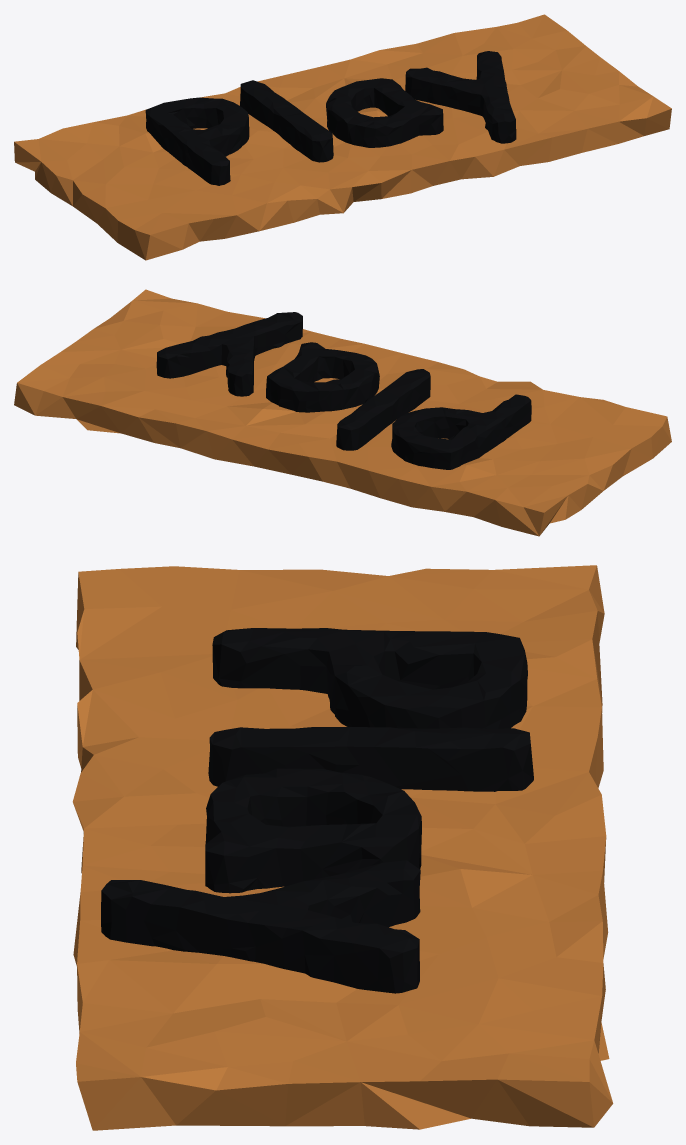
Rendered from play.fbx.
3 renders of one model, top to bottom at view 1: azimuth 30°, elevation 25°; view 2: azimuth 150°, elevation 25°; view 3: azimuth 270°, elevation 25°, orthographic. The views are drawn at different scales.
Parts seen in each view (by area): view 1: Куб.002; view 2: Куб.002; view 3: Куб.002.
Part boxes in pixels (box(x1,y1,x2,y2)): Куб.002: box(14, 14, 671, 260); Куб.002: box(14, 289, 671, 536); Куб.002: box(72, 565, 613, 1130).
Bounding box in the file's own units: 213 × 19.07 × 93.62.
